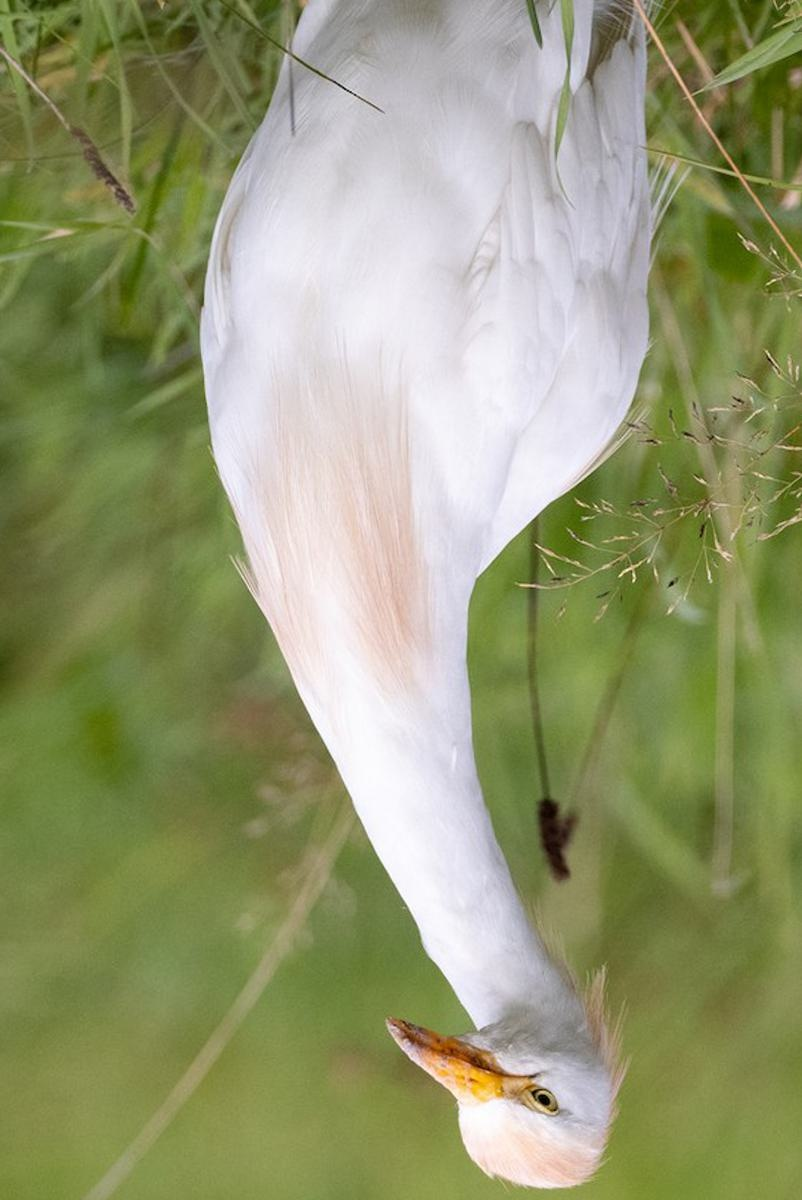egret: (176, 1, 681, 1182)
